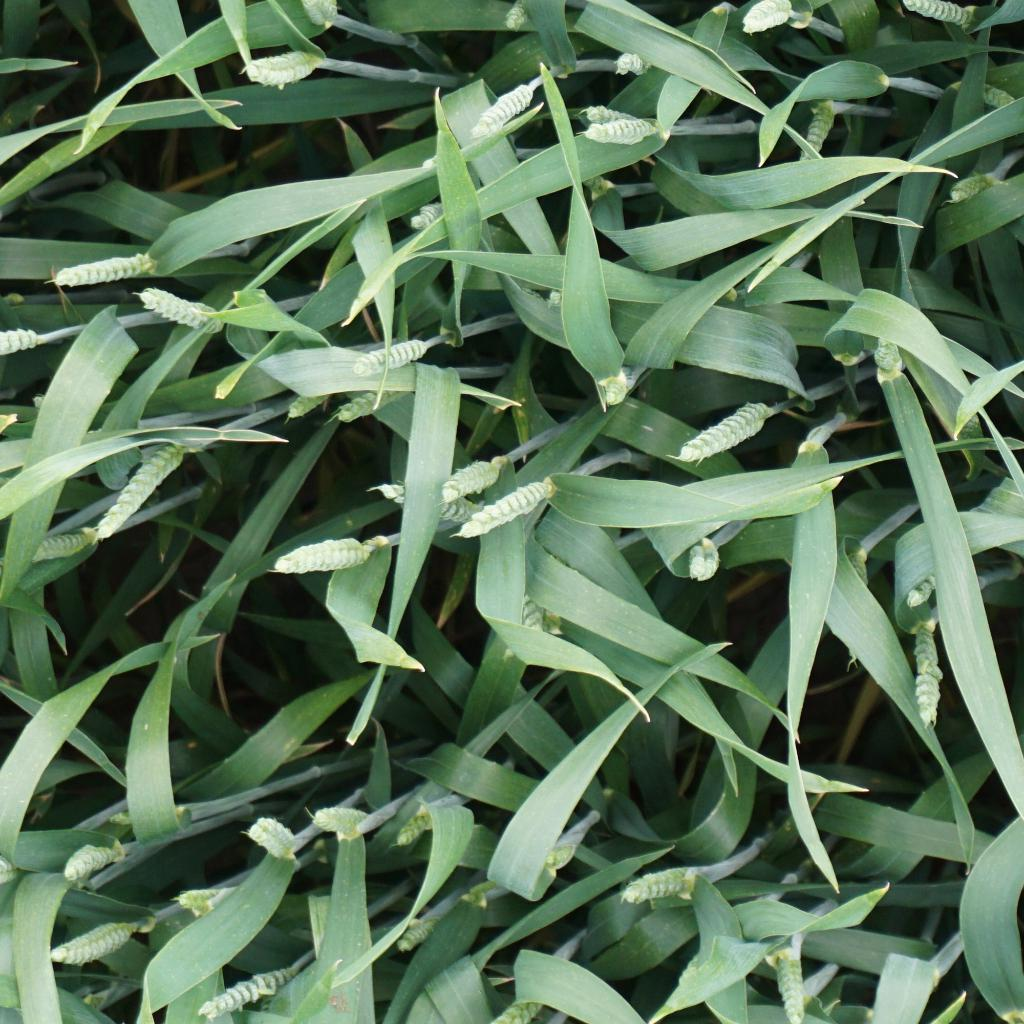0-0: (90, 433, 187, 542), (451, 476, 568, 546), (673, 397, 778, 462), (42, 912, 148, 970), (190, 970, 296, 1024), (367, 480, 496, 524), (755, 936, 818, 1024), (269, 531, 382, 578), (139, 281, 226, 342), (462, 79, 541, 146), (44, 245, 158, 289), (330, 373, 427, 423), (345, 333, 434, 383), (13, 519, 105, 566), (238, 44, 331, 89), (611, 863, 700, 908), (437, 451, 512, 503), (482, 979, 559, 1024), (56, 836, 136, 878), (912, 628, 944, 732), (798, 96, 843, 165), (393, 905, 446, 959), (676, 534, 729, 585), (897, 0, 981, 30), (937, 167, 1005, 204), (310, 799, 375, 837), (393, 801, 443, 848), (398, 195, 463, 230), (577, 121, 662, 147), (572, 109, 650, 137), (247, 814, 297, 857), (734, 0, 798, 33), (515, 584, 550, 641), (279, 385, 329, 422), (0, 326, 46, 365), (969, 81, 1019, 116), (175, 885, 237, 912), (298, 0, 347, 30), (895, 572, 937, 607), (607, 49, 654, 77), (495, 0, 532, 33), (873, 339, 902, 377)
